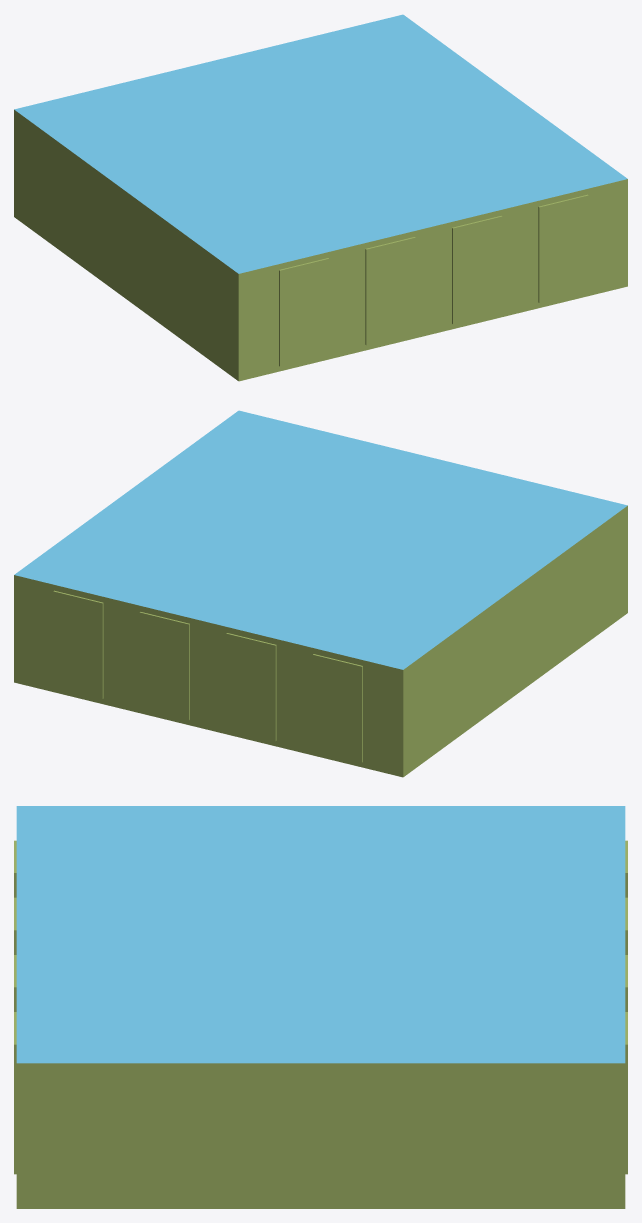
File: Galeria_spots.dae
3 renders of one model, top to bottom at view 1: azimuth 30°, elevation 25°; view 2: azimuth 150°, elevation 25°; view 3: azimuth 270°, elevation 25°, orthographic. The views are drawn at different scales.
Visible parts, largest first — view 1: Teto, Sala; view 2: Teto, Sala; view 3: Teto, Sala.
Boxes of the visible parts, box(x1,y1,x2,y2) form: Teto: box(14, 14, 627, 273); Sala: box(14, 109, 627, 381); Teto: box(14, 410, 627, 669); Sala: box(14, 505, 627, 777); Teto: box(16, 806, 625, 1063); Sala: box(14, 840, 627, 1208).
Bounding box in the file's own units: 54.43 × 54.91 × 14.38.
